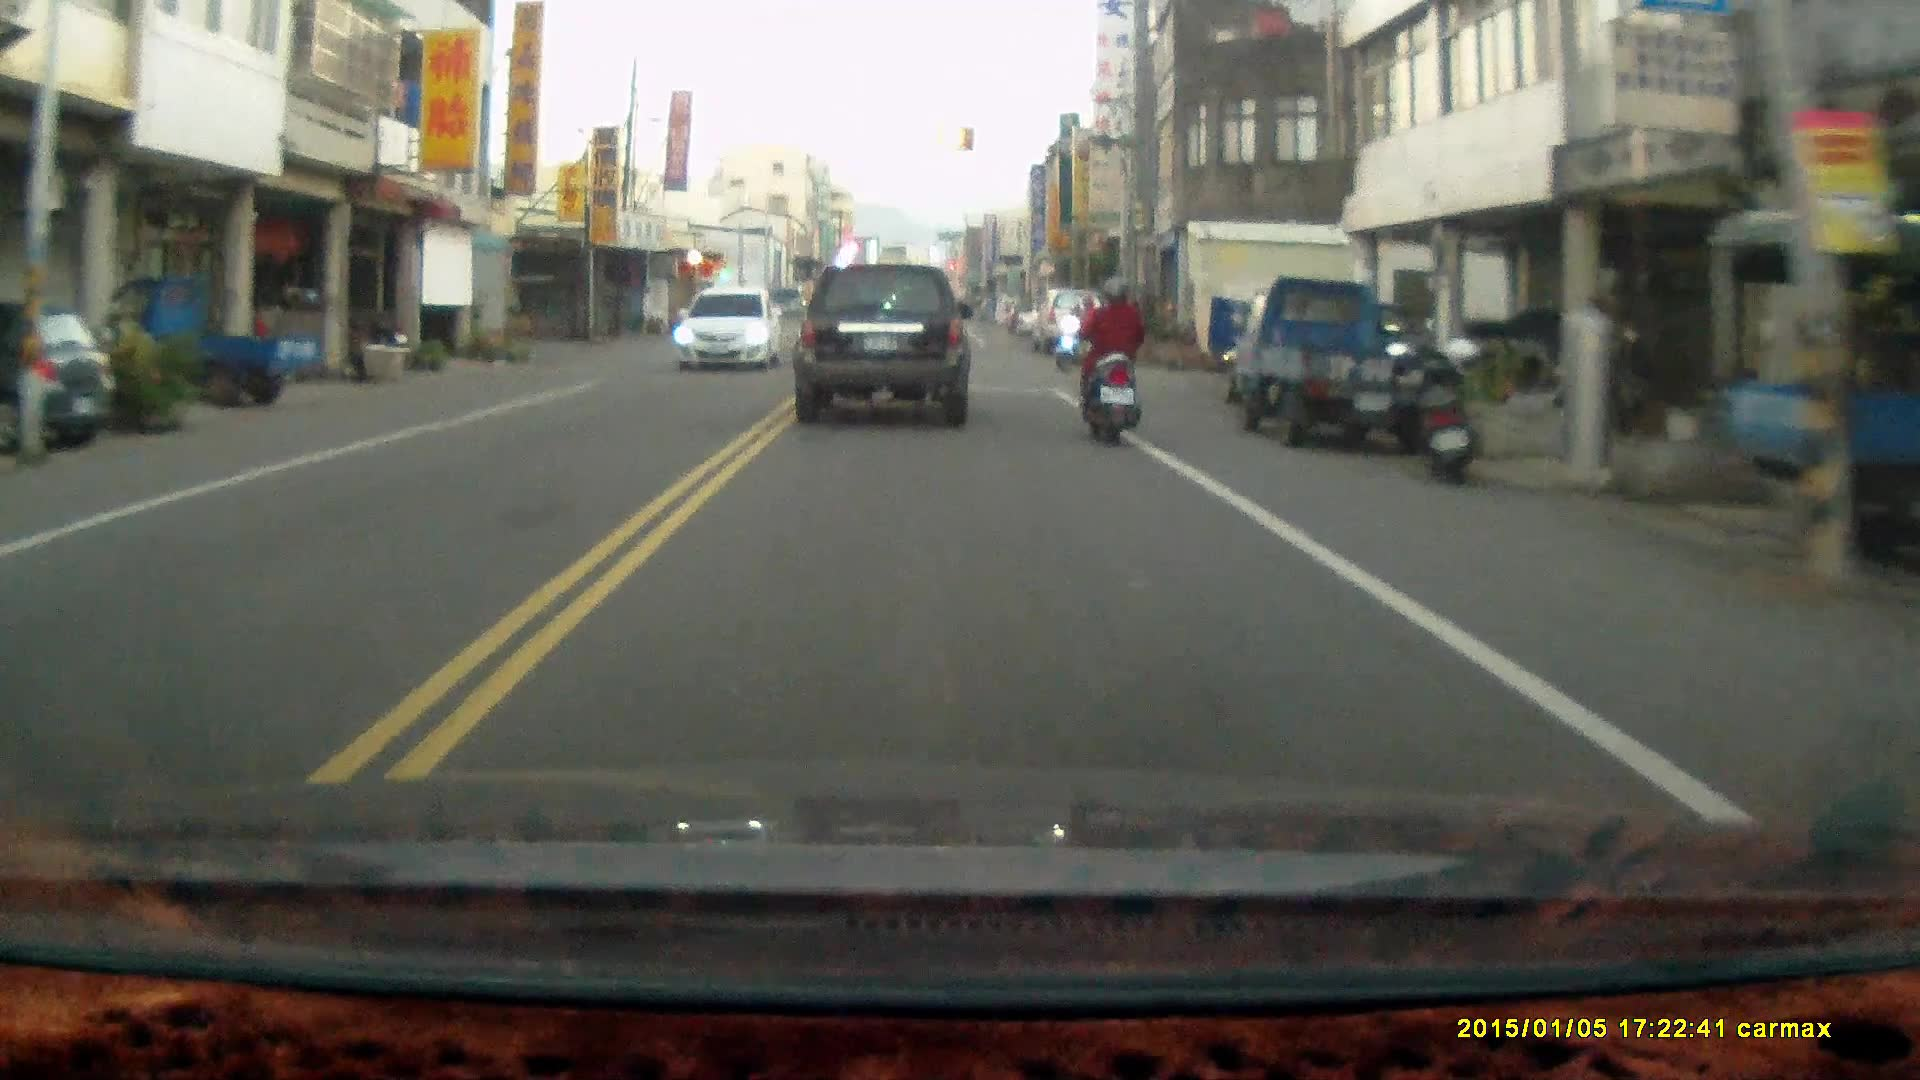rider: (1079, 274, 1142, 447), (1053, 296, 1104, 370)
vehicle: (1233, 282, 1457, 454), (89, 273, 330, 408), (794, 265, 973, 433), (1, 303, 116, 451), (672, 285, 784, 374), (1033, 289, 1111, 357)
